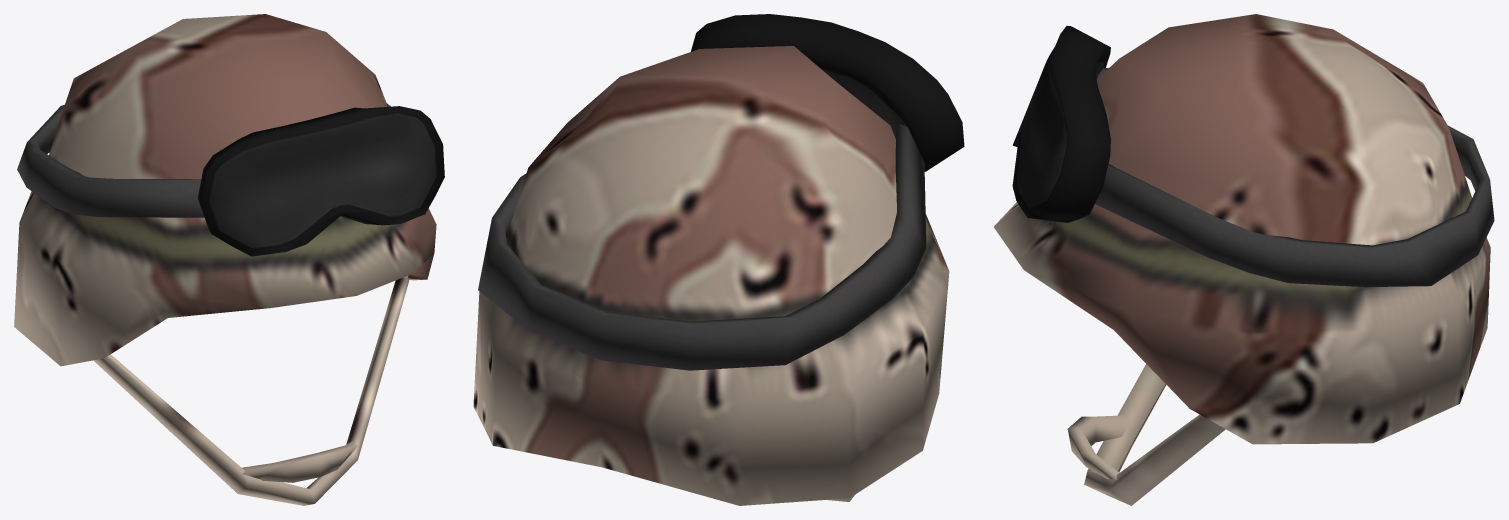
The model's file is PoliceHelmetGoggles.fbx.
3 views of the same model, side by side, from view 1: azimuth 30°, elevation 25°; view 2: azimuth 150°, elevation 25°; view 3: azimuth 270°, elevation 25° (orthographic). The views are drawn at different scales.
Visible parts, largest first — view 1: Cube.004; view 2: Cube.004; view 3: Cube.004.
Part boxes in pixels (x1=…): Cube.004: x1=14, y1=14, x2=444, y2=505; Cube.004: x1=473, y1=14, x2=964, y2=505; Cube.004: x1=994, y1=14, x2=1494, y2=505.
Bounding box in the file's own units: 0.1903 × 0.1674 × 0.1909.
